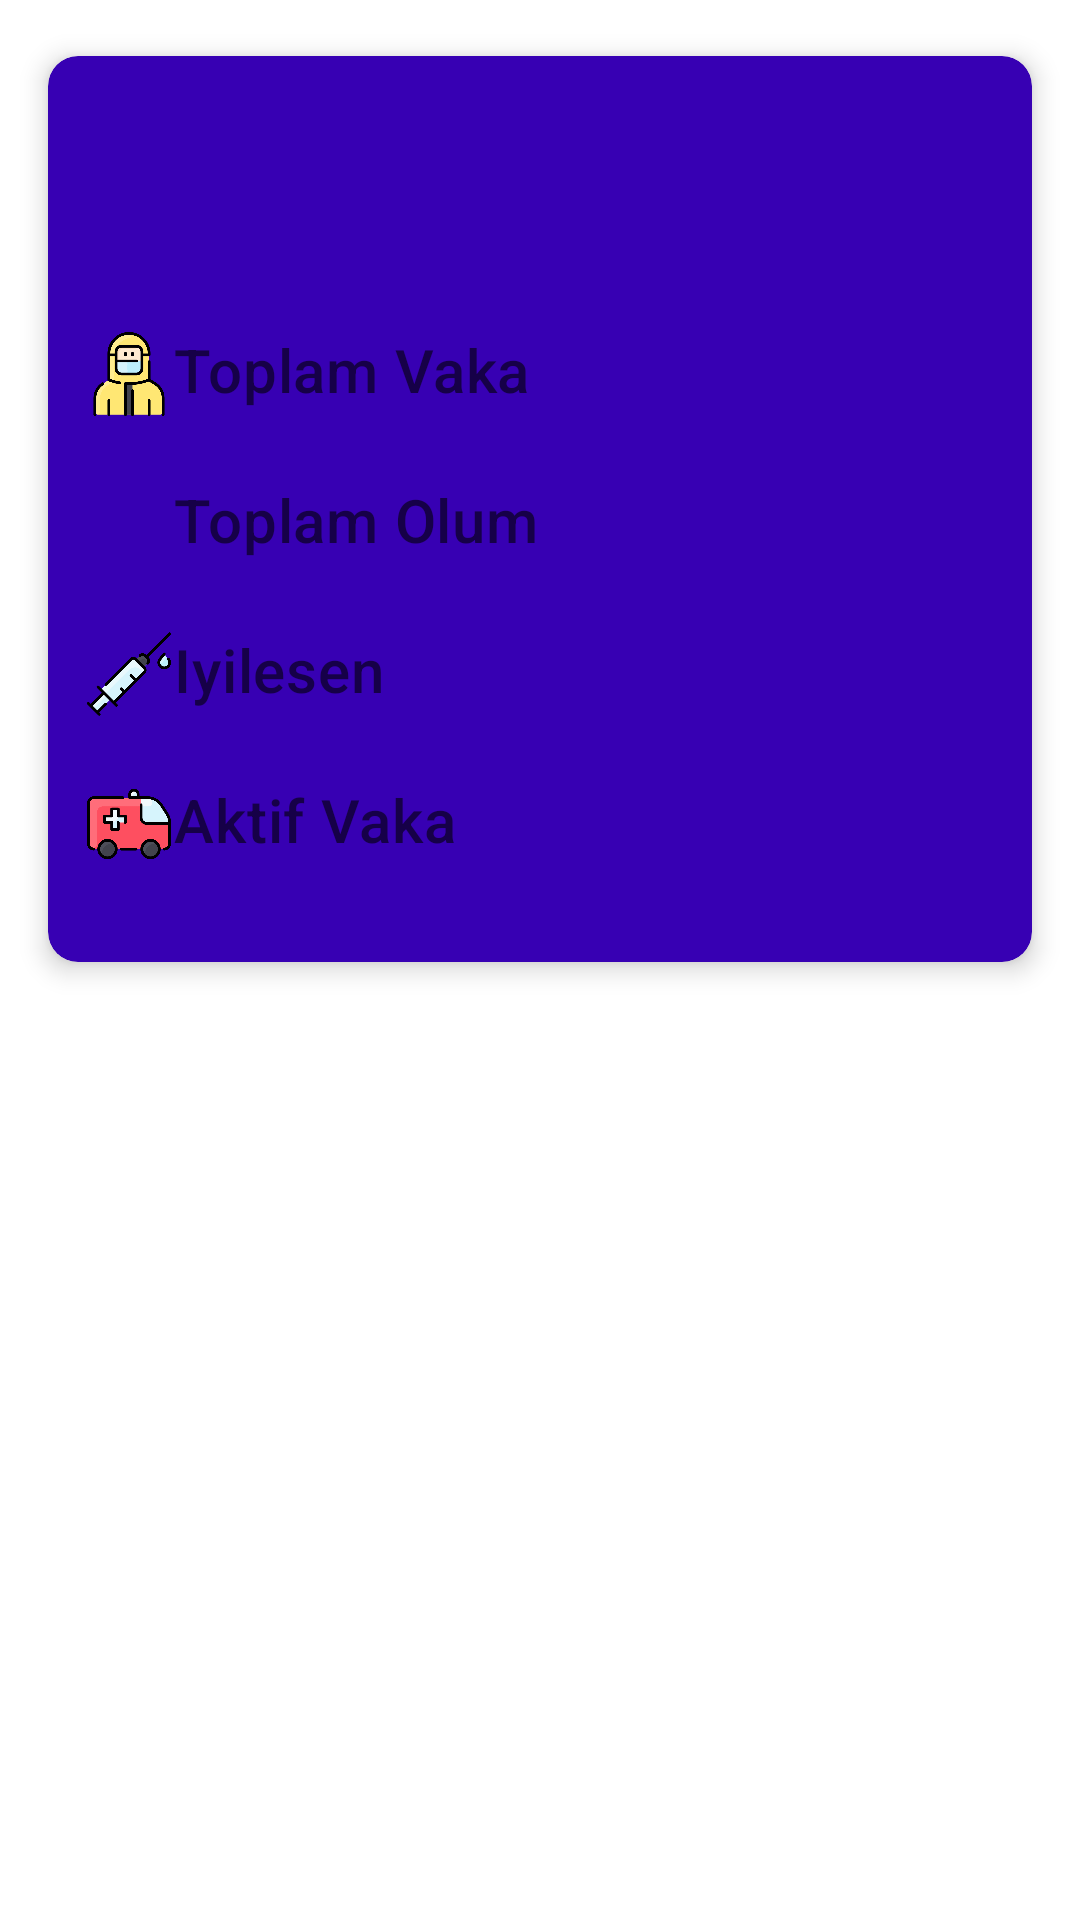

Icons on this 1080w x 1920h Android screen, each with its box as {"left": x1, "top": y1, "right": x2, "bottom": y2}:
ambulance: {"left": 87, "top": 789, "right": 171, "bottom": 859}
man: {"left": 93, "top": 332, "right": 165, "bottom": 416}
syringe: {"left": 87, "top": 632, "right": 171, "bottom": 716}
